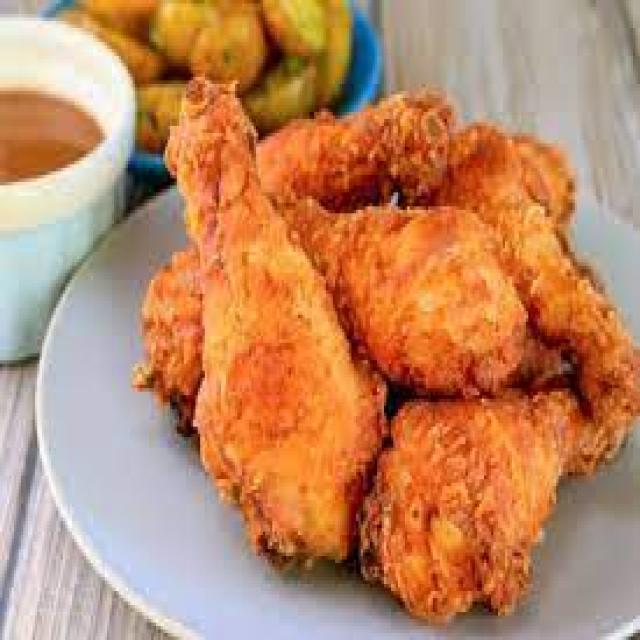Frango: (130, 60, 640, 622)
